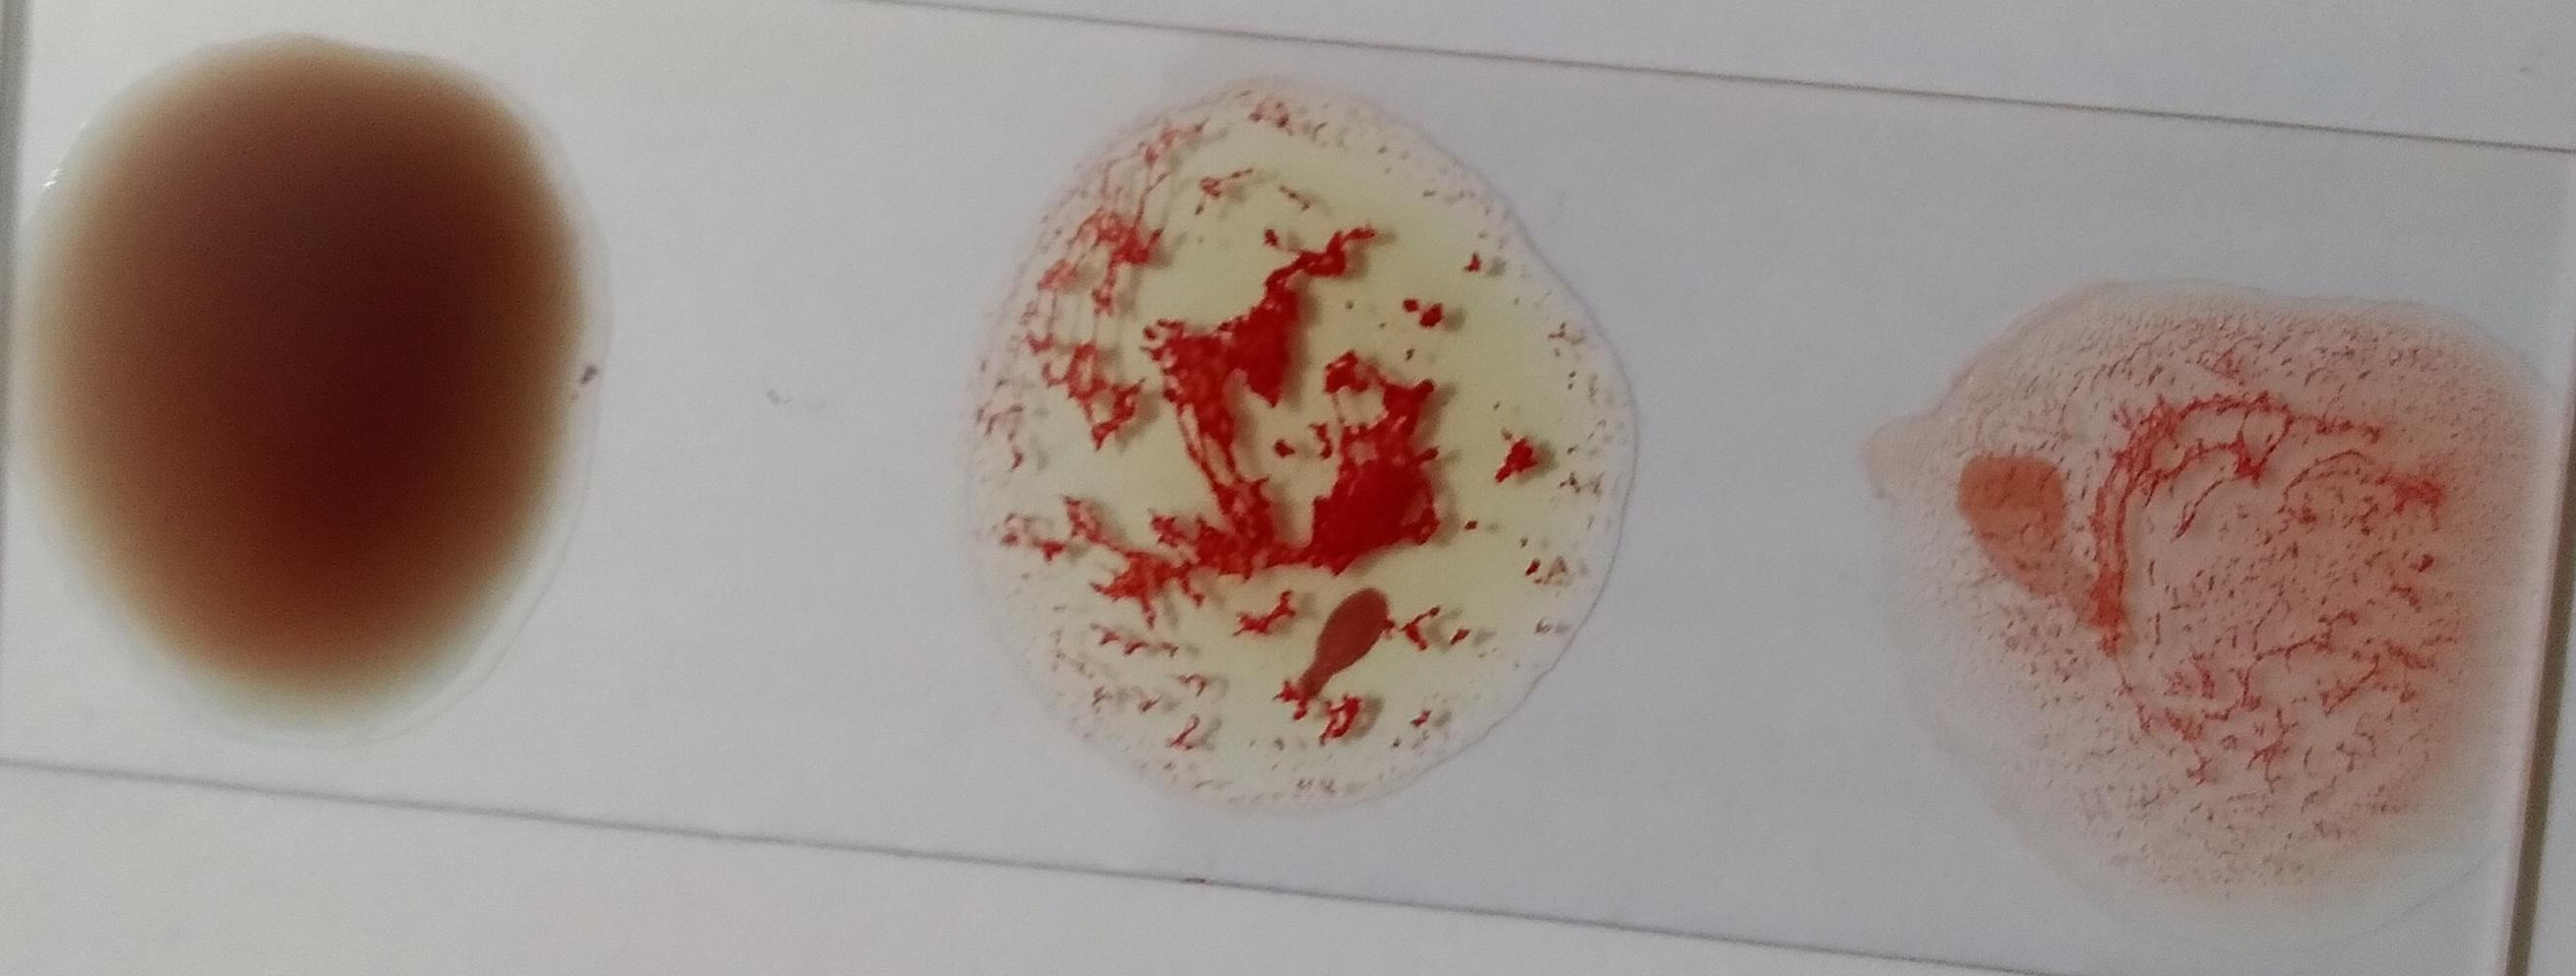B: (969, 110, 1638, 826)
D: (1966, 317, 2481, 932)
